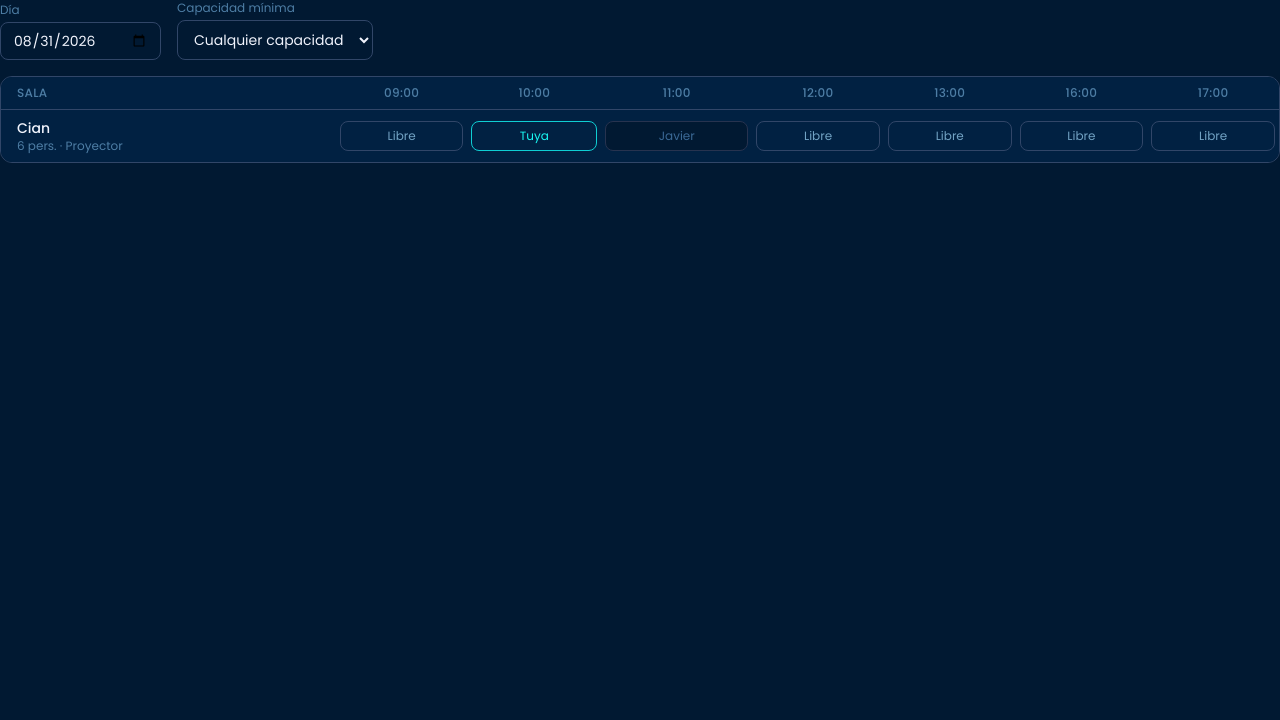
Scenario: CalendarioView › un clic en una celda "Libre" abre el diálogo de reserva
Click the button with test id "slot-sala-1-09:00" at (402, 136), box [340, 121, 464, 151]
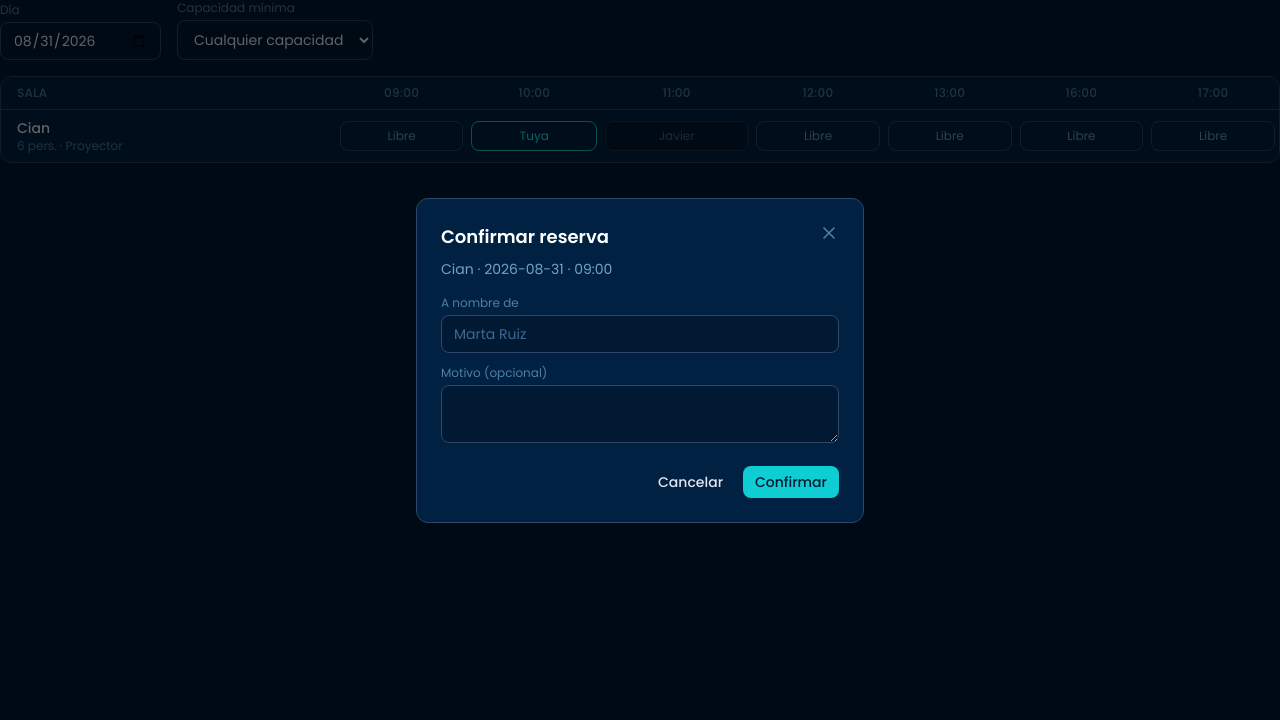
Result: the element with test id "reserva-dialog" is shown at [416, 198, 864, 522]
